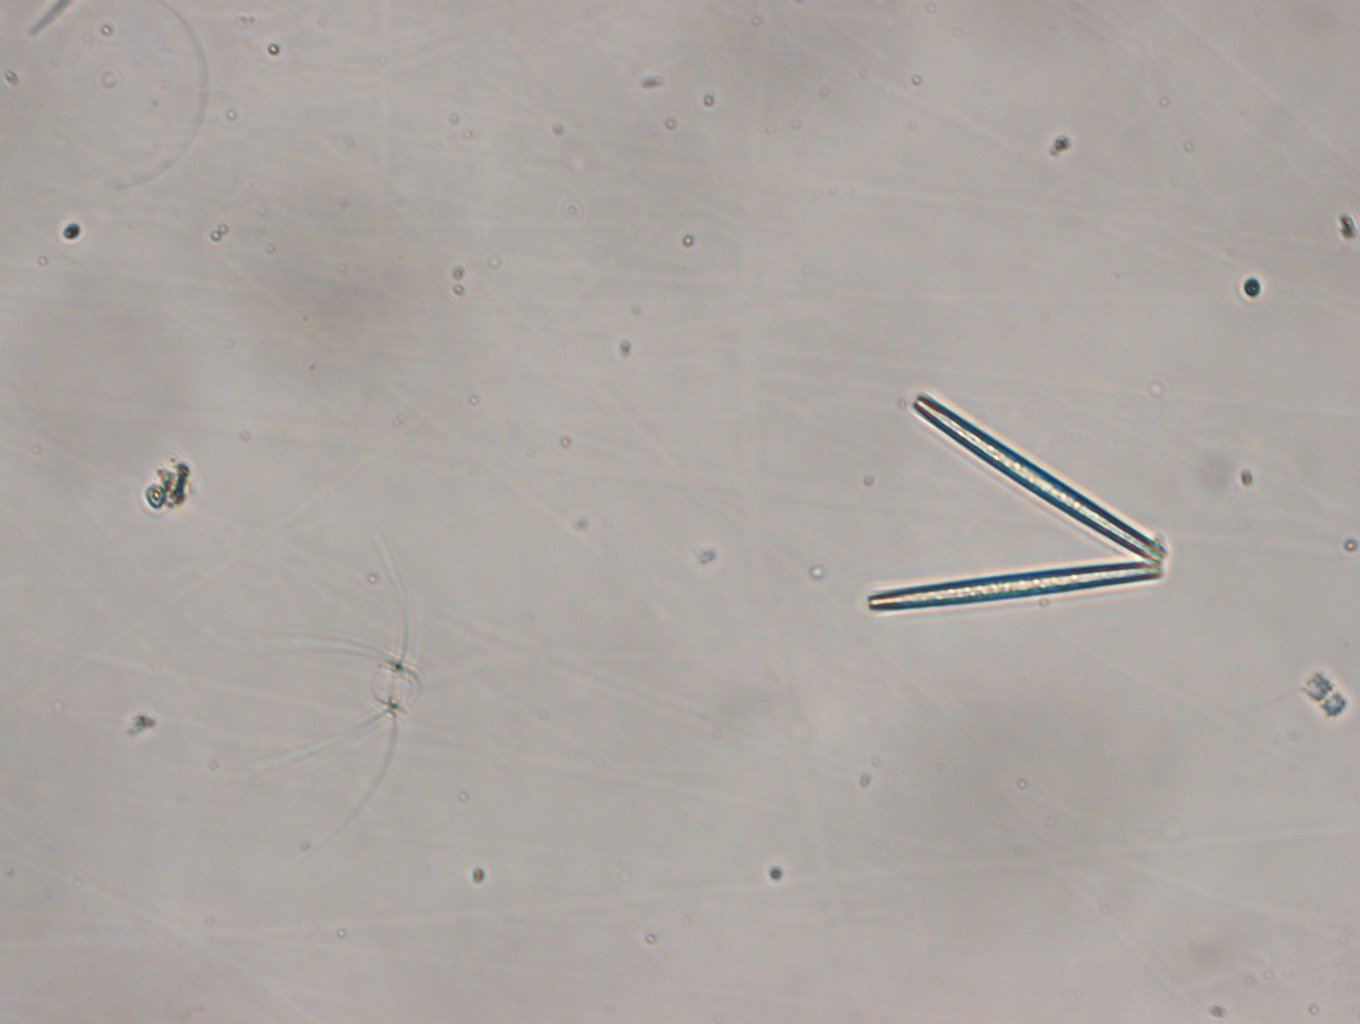thalassionema nitzschioides: (860, 386, 1172, 612)
